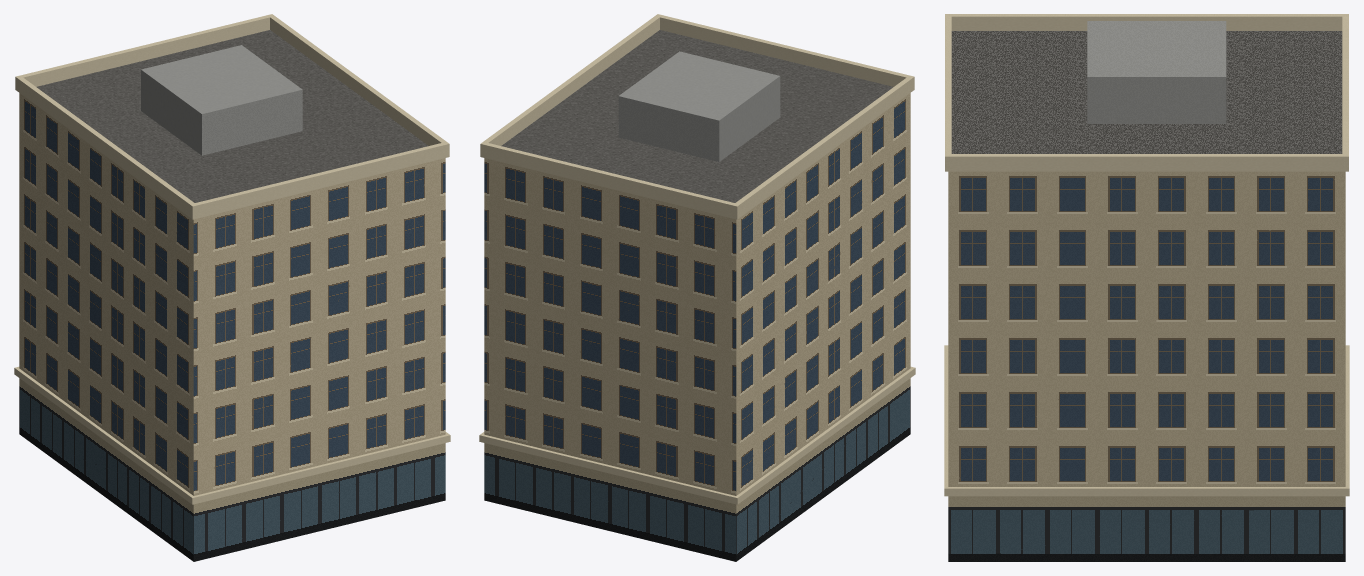
The model's file is stone_midrise.glb.
The picture shows the model from 3 angles, left to right: view 1: azimuth 30°, elevation 25°; view 2: azimuth 150°, elevation 25°; view 3: azimuth 270°, elevation 25°; orthographic projection. The views are drawn at different scales.
Visible parts, largest first — view 1: stone_midrise; view 2: stone_midrise; view 3: stone_midrise.
Boxes of the visible parts, left/top/right/bottom form: stone_midrise: left=14, top=14, right=450, bottom=561; stone_midrise: left=479, top=14, right=915, bottom=561; stone_midrise: left=944, top=14, right=1349, bottom=561.
Size of the model in its own units: 20.5 by 29.3 by 24.5.
5 materials, 5 textured.
